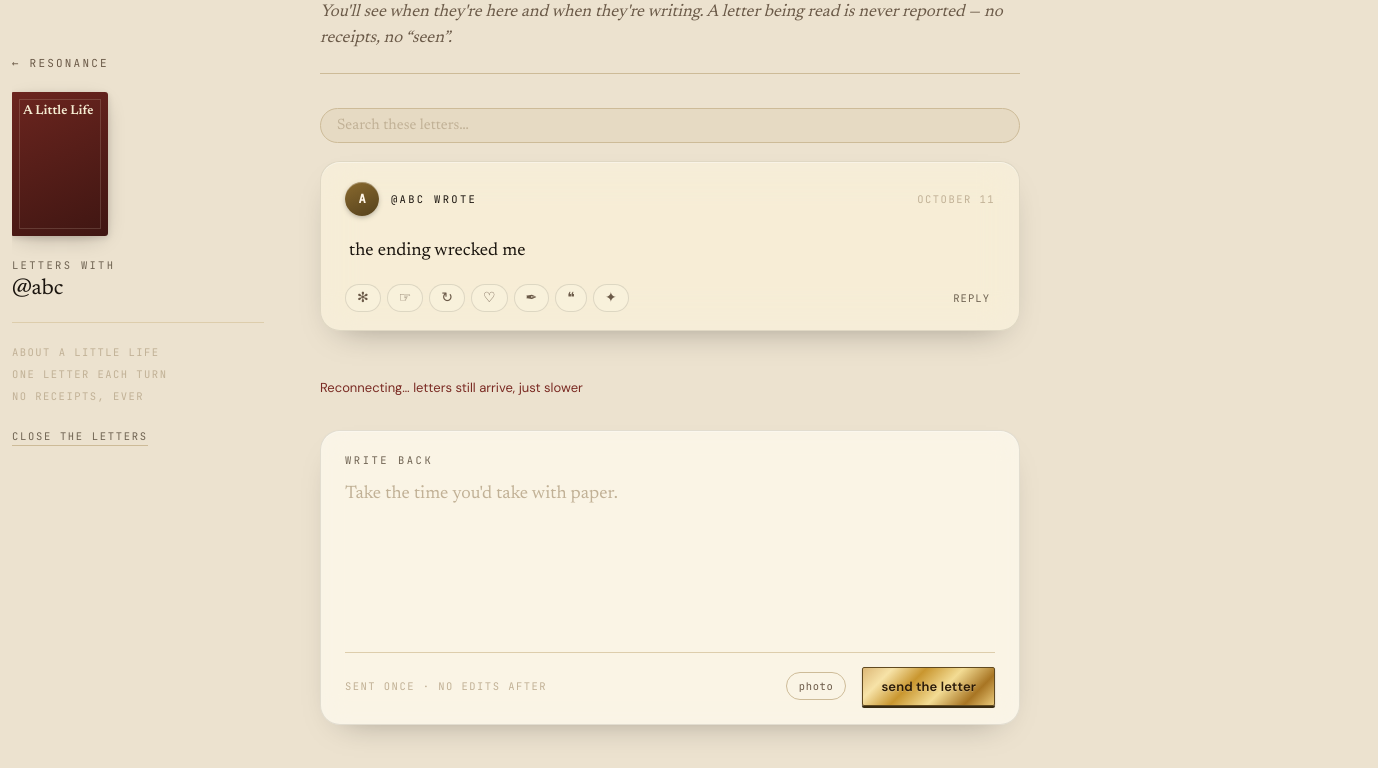
Test: ResonanceThread — reply and reactions › reacts optimistically and reconciles with the server's counts
Expected: the text "the ending wrecked me" is shown, [349,242,526,260]
Click the button named "noted". click: coordinates (405, 298)
box: [387,284,423,312]
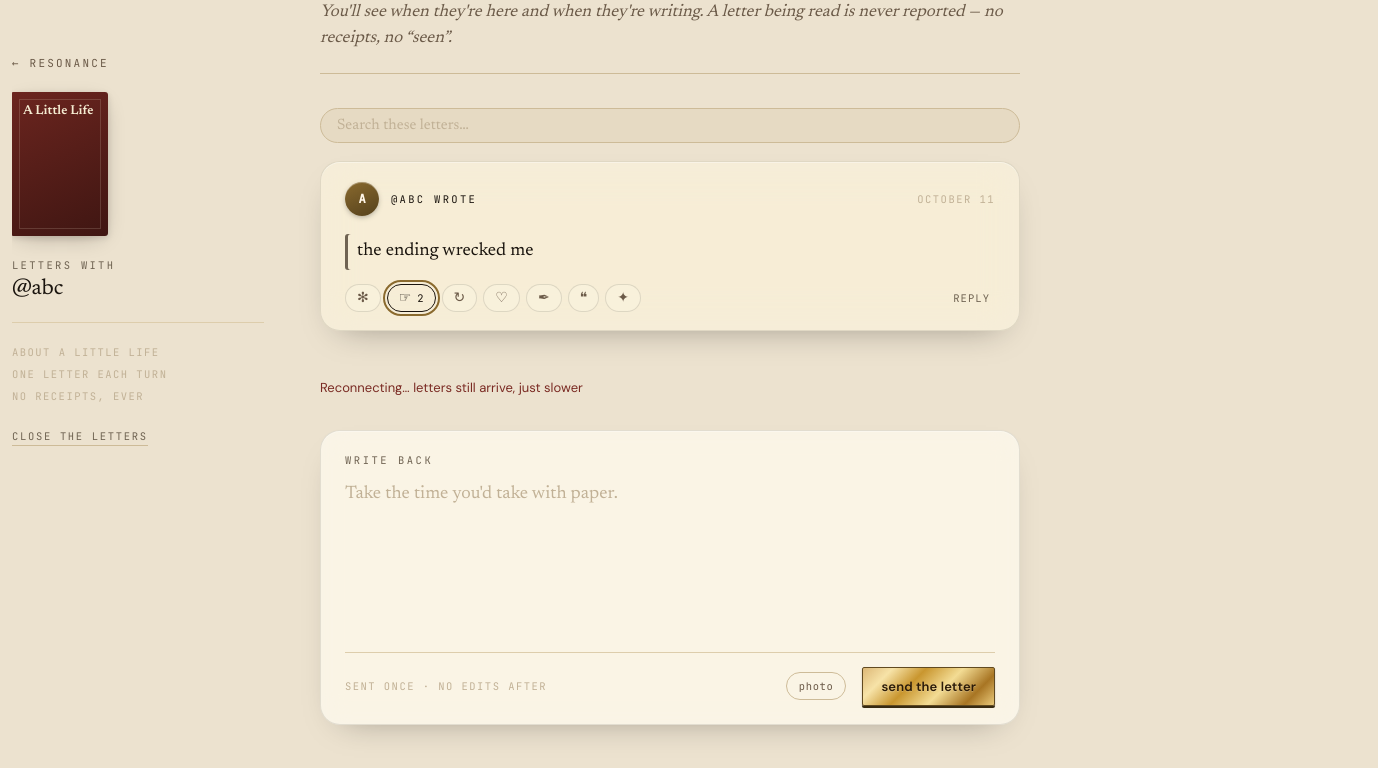
Expected: the text "2" is shown, [417,290,424,304]
